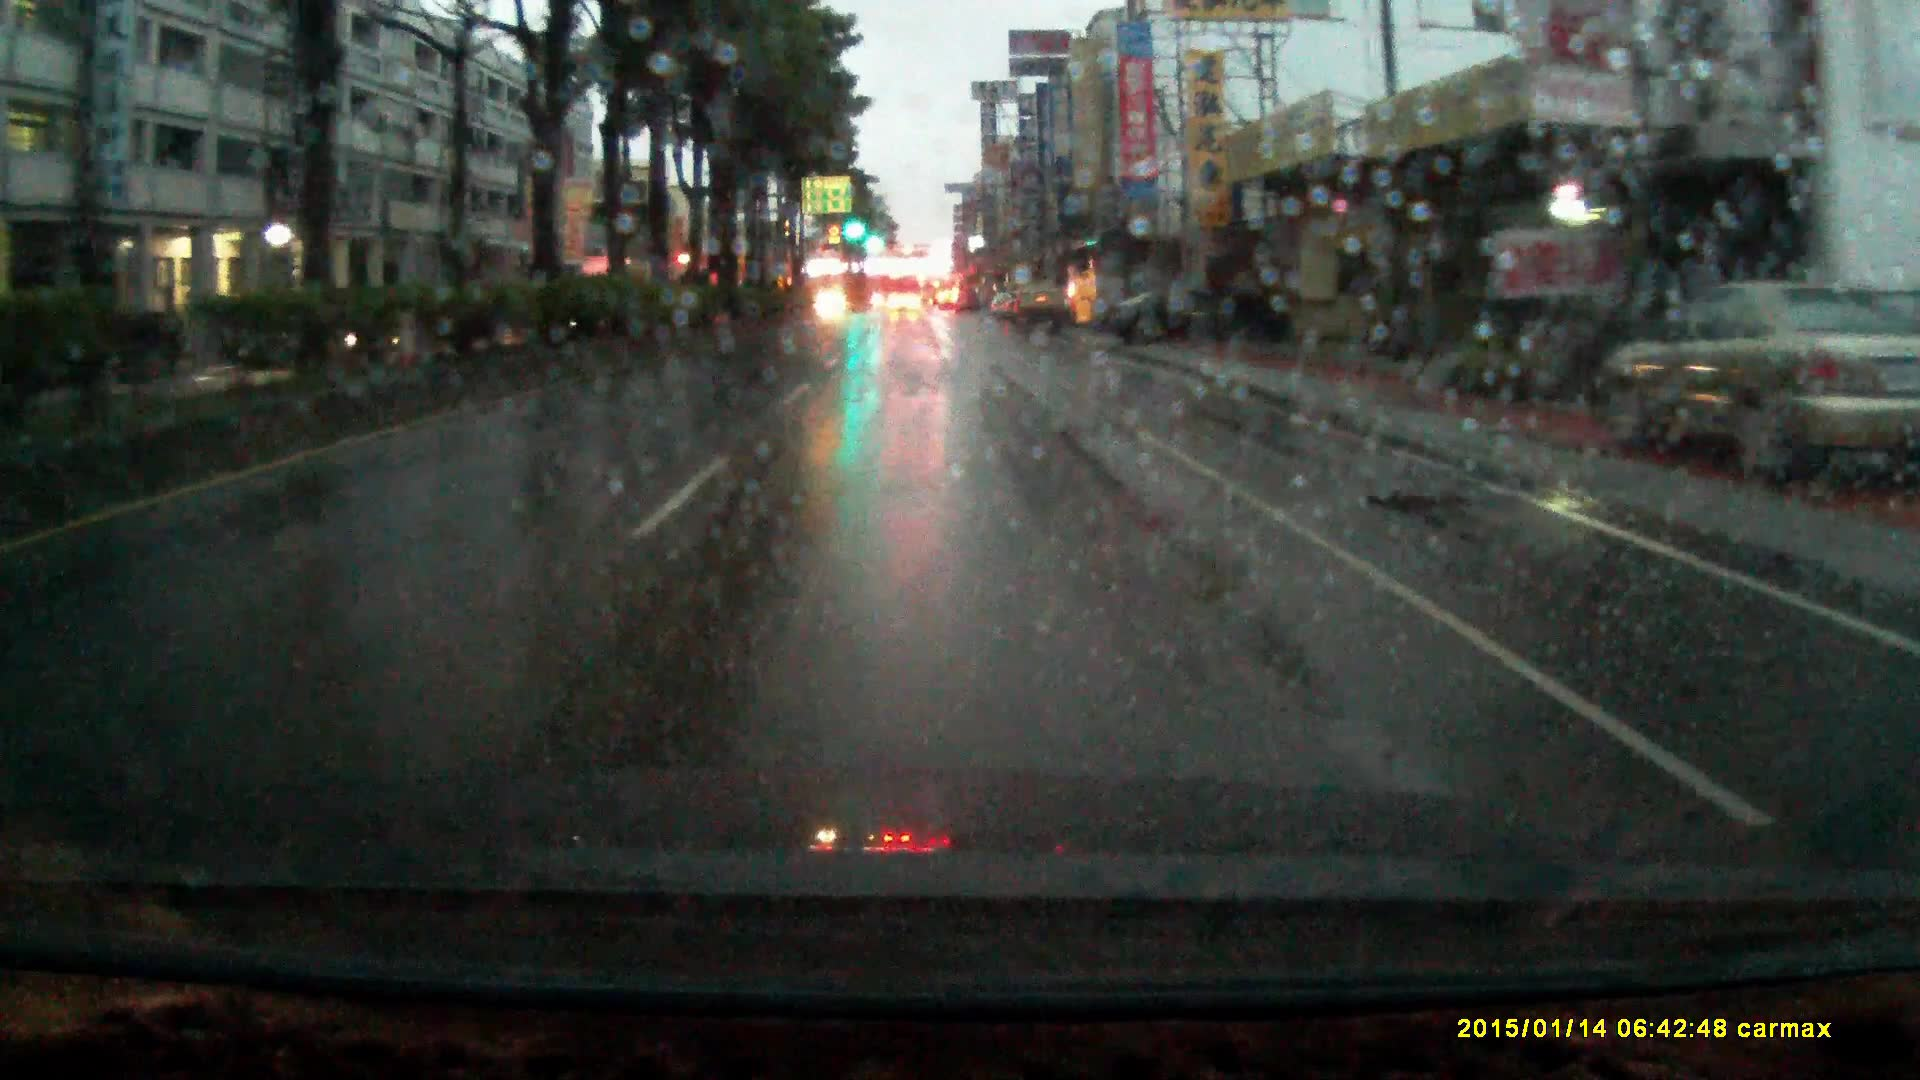vehicle: (1625, 276, 1920, 485), (1095, 280, 1287, 340), (1010, 274, 1067, 328), (886, 286, 923, 309)
